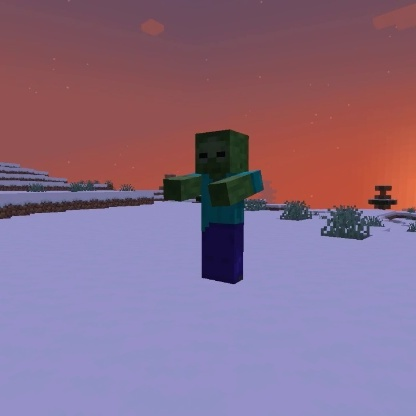zombie: (159, 127, 269, 290)
